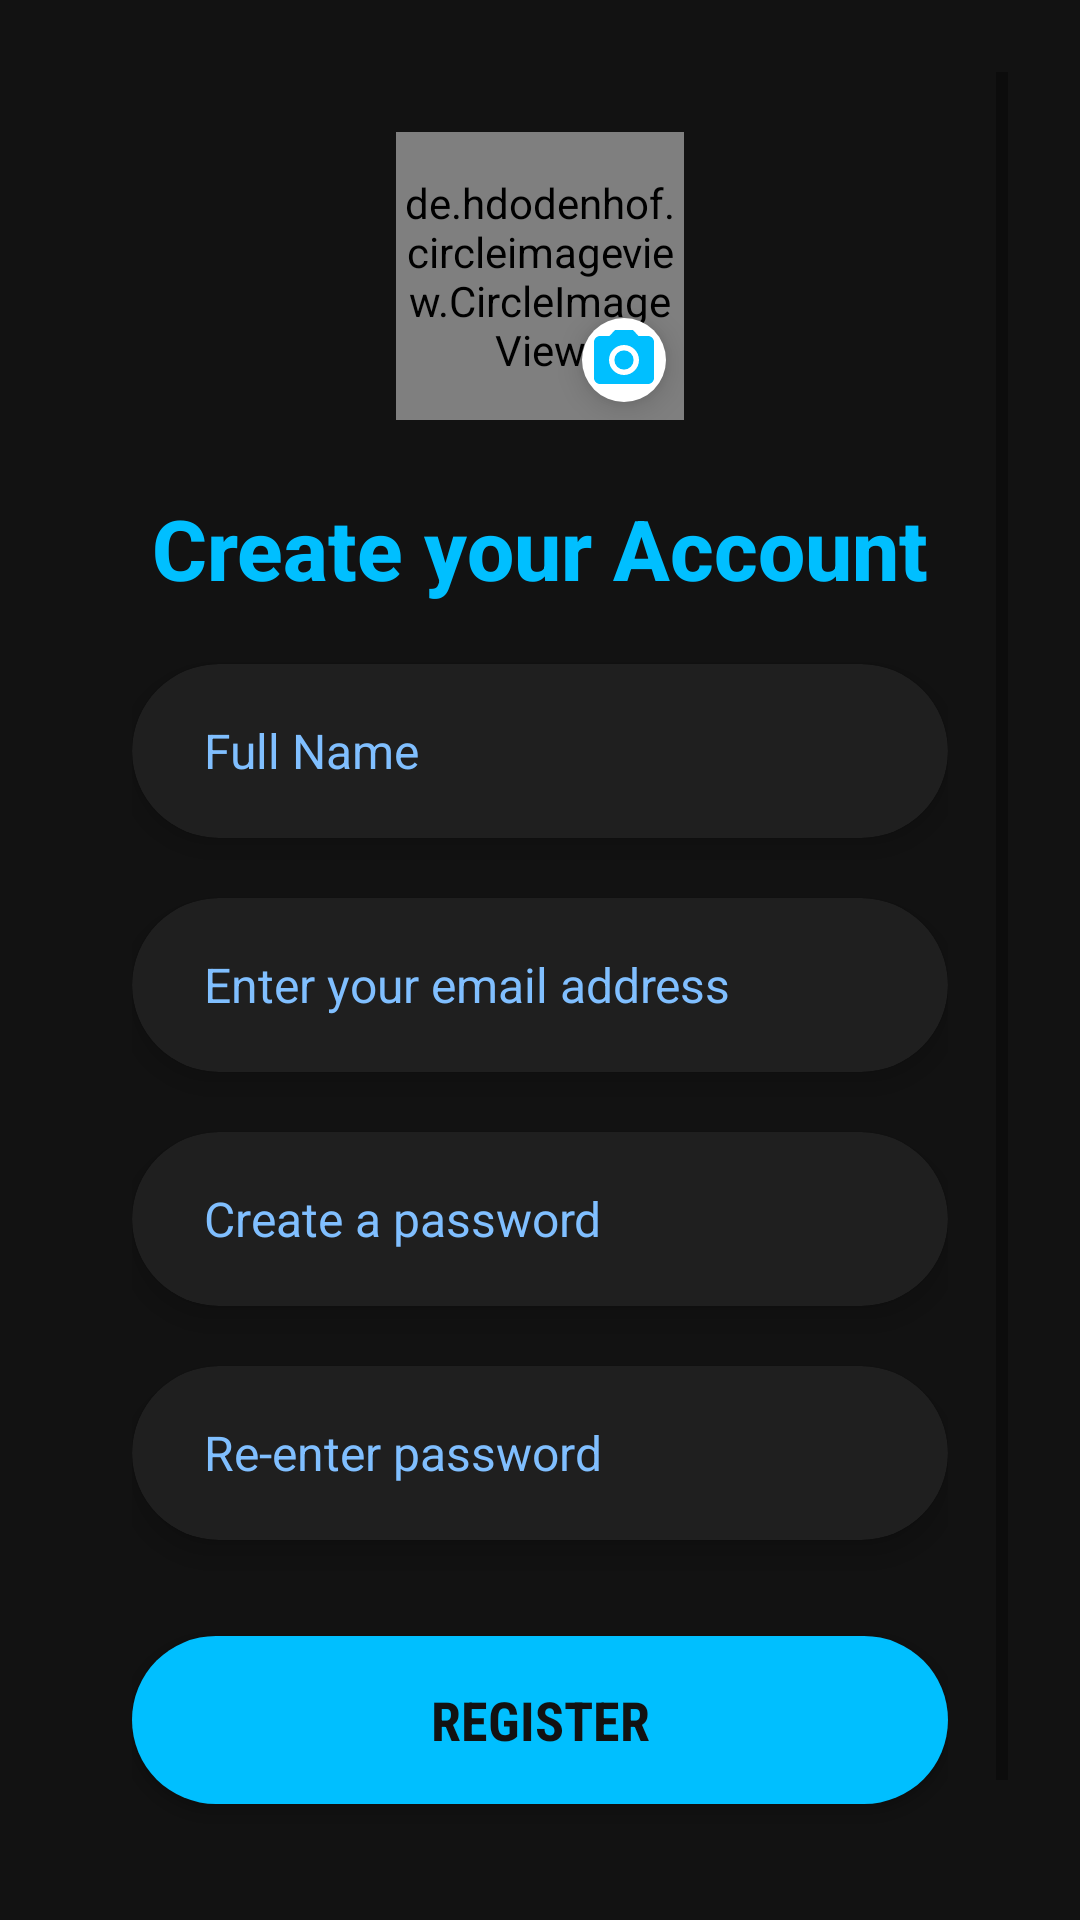

Icons on this 1080×1920 Android screen, each with the point to tap as [x,y]:
add photo: [624,360]
